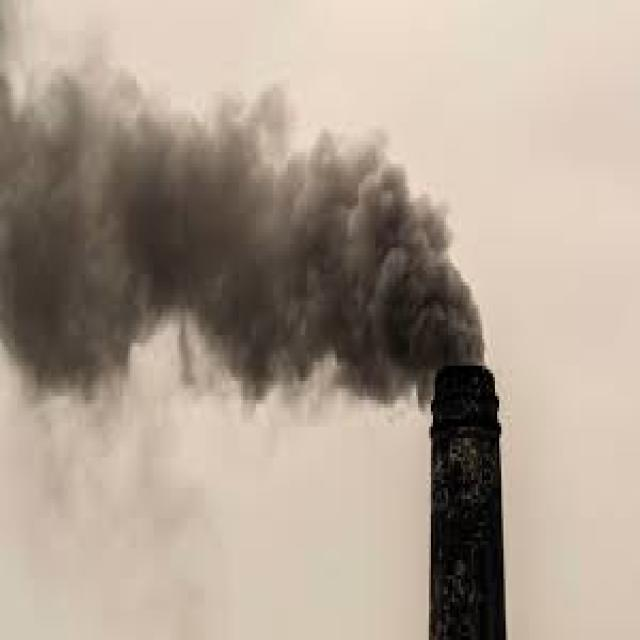Smoke: (0, 6, 490, 418)
